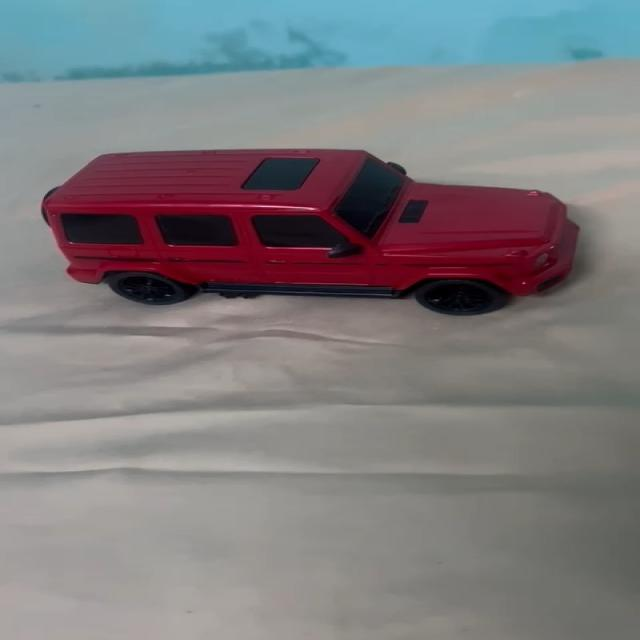light_vehicle: (34, 150, 584, 312)
